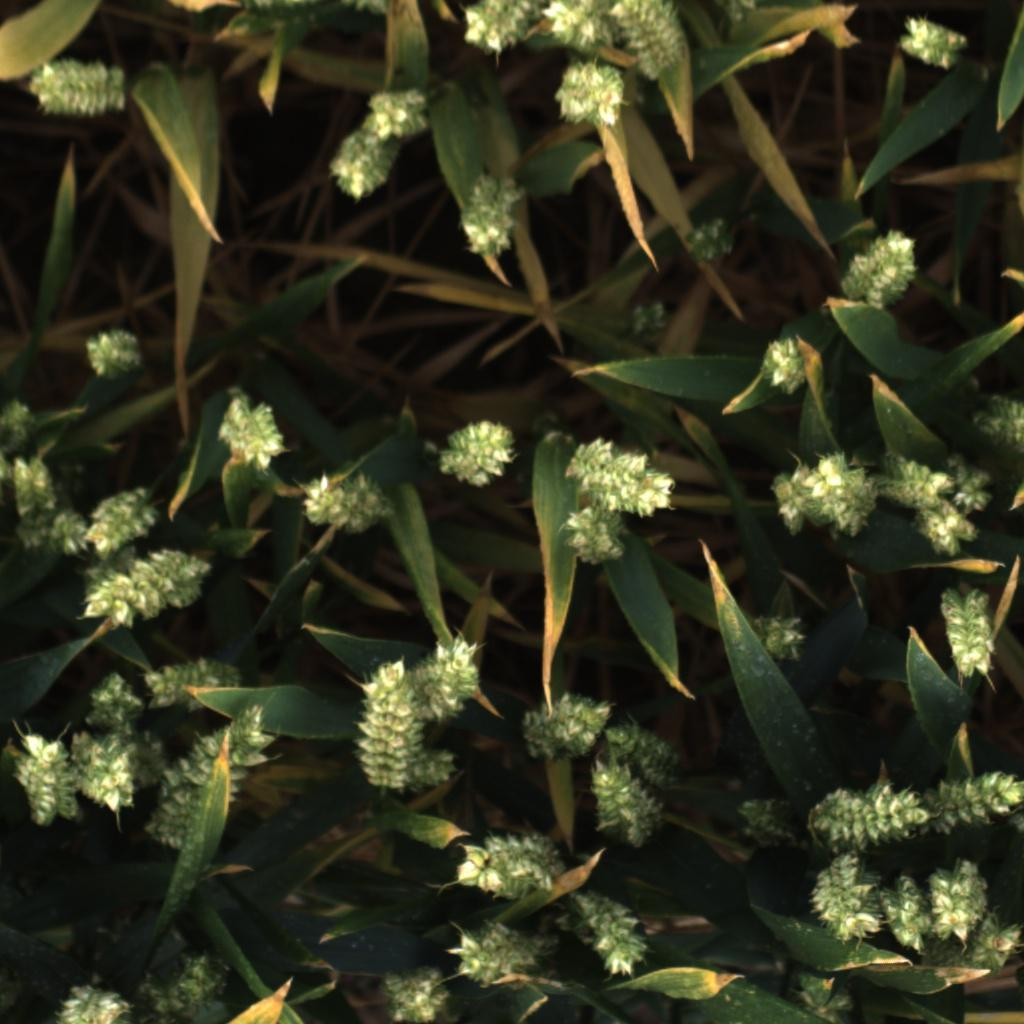0-0: (149, 703, 279, 852), (552, 431, 682, 513), (76, 552, 200, 633), (347, 652, 417, 795), (564, 889, 659, 987), (450, 823, 566, 899), (812, 776, 936, 843), (129, 942, 233, 1021), (20, 54, 132, 126), (6, 721, 82, 825), (407, 627, 487, 719), (69, 733, 147, 826), (519, 689, 622, 759), (838, 227, 921, 310), (809, 850, 882, 944), (807, 451, 883, 541), (449, 922, 551, 989), (605, 0, 689, 81), (869, 865, 942, 958), (586, 758, 662, 847), (602, 716, 690, 791), (134, 645, 237, 708), (443, 179, 521, 260), (932, 595, 1004, 682), (545, 65, 633, 135), (936, 760, 1024, 829), (924, 857, 991, 947), (438, 416, 520, 489), (913, 497, 992, 572), (320, 128, 396, 205), (301, 469, 394, 531), (217, 391, 284, 477), (82, 484, 157, 560), (758, 464, 830, 543), (71, 667, 151, 737), (892, 8, 972, 75), (372, 961, 457, 1024), (458, 0, 545, 58), (742, 599, 817, 666), (726, 784, 802, 845), (790, 962, 863, 1024), (875, 454, 954, 511), (962, 913, 1024, 985), (560, 506, 626, 573), (78, 325, 149, 387), (539, 0, 615, 57), (748, 335, 812, 402), (47, 976, 134, 1024), (968, 383, 1024, 456), (8, 449, 66, 519), (681, 212, 741, 278), (9, 512, 95, 558), (360, 85, 424, 142), (940, 463, 1001, 519), (618, 291, 674, 347), (413, 741, 468, 793), (0, 393, 45, 451)
